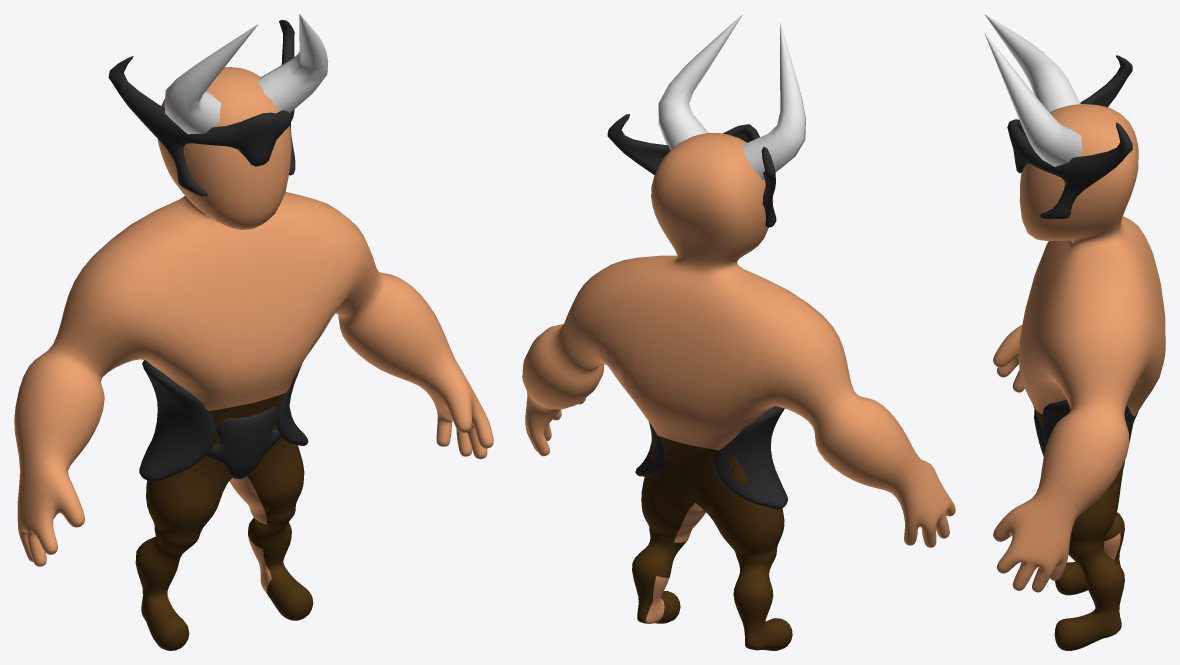
The model's file is Sk_boss.fbx.
The picture shows the model from 3 angles, left to right: view 1: azimuth 30°, elevation 25°; view 2: azimuth 150°, elevation 25°; view 3: azimuth 270°, elevation 25°; orthographic projection. The views are drawn at different scales.
Parts seen in each view (by area): view 1: body, head, Pull; view 2: body, head, Pull; view 3: body, Pull, head.
Boxes of the visible parts, box(x1,y1,x2,y2) form: body: box(14, 67, 493, 650); head: box(108, 19, 308, 482); Pull: box(164, 14, 328, 134); body: box(522, 133, 955, 650); head: box(607, 114, 787, 509); Pull: box(658, 14, 805, 179); body: box(993, 104, 1165, 650); Pull: box(984, 14, 1082, 166); head: box(1007, 55, 1134, 489).
Bounding box in the file's own units: 189 × 258 × 70.98.
